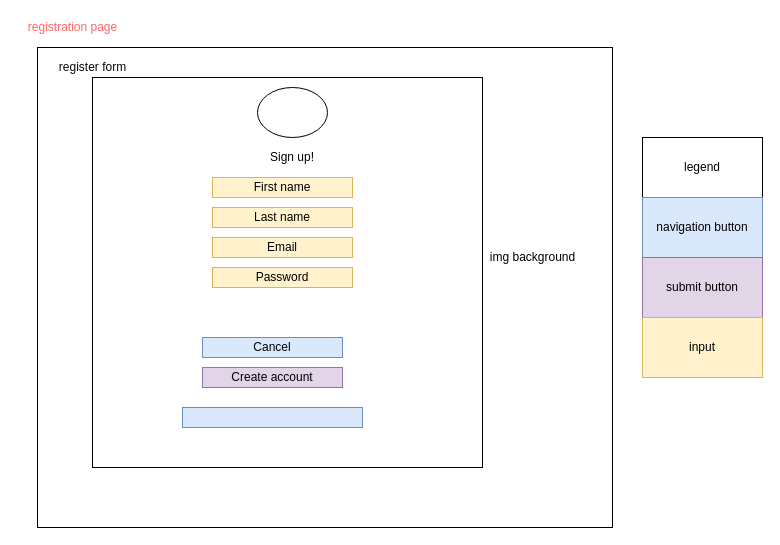
Image size: 780x545. Some labels were removed from this diagram. The centre of each missing label's shape, as x and y in pixels:
Already have an account? Log in: [272,417]
logo: [292,112]
